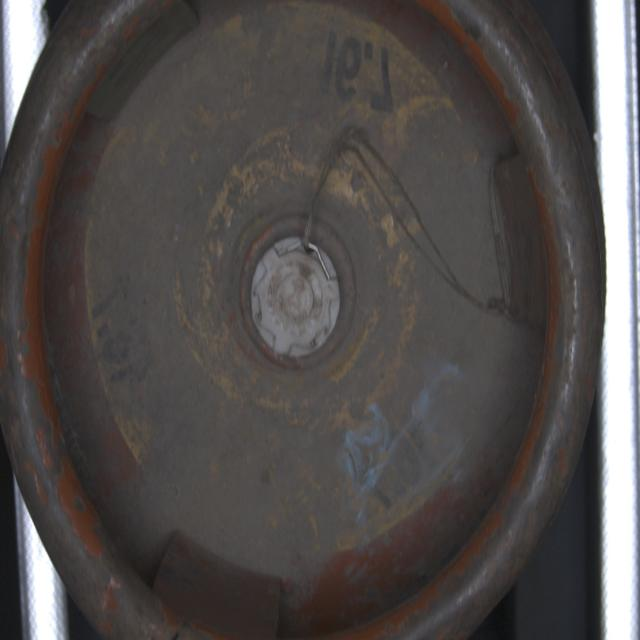Cap: (250, 236, 345, 361)
